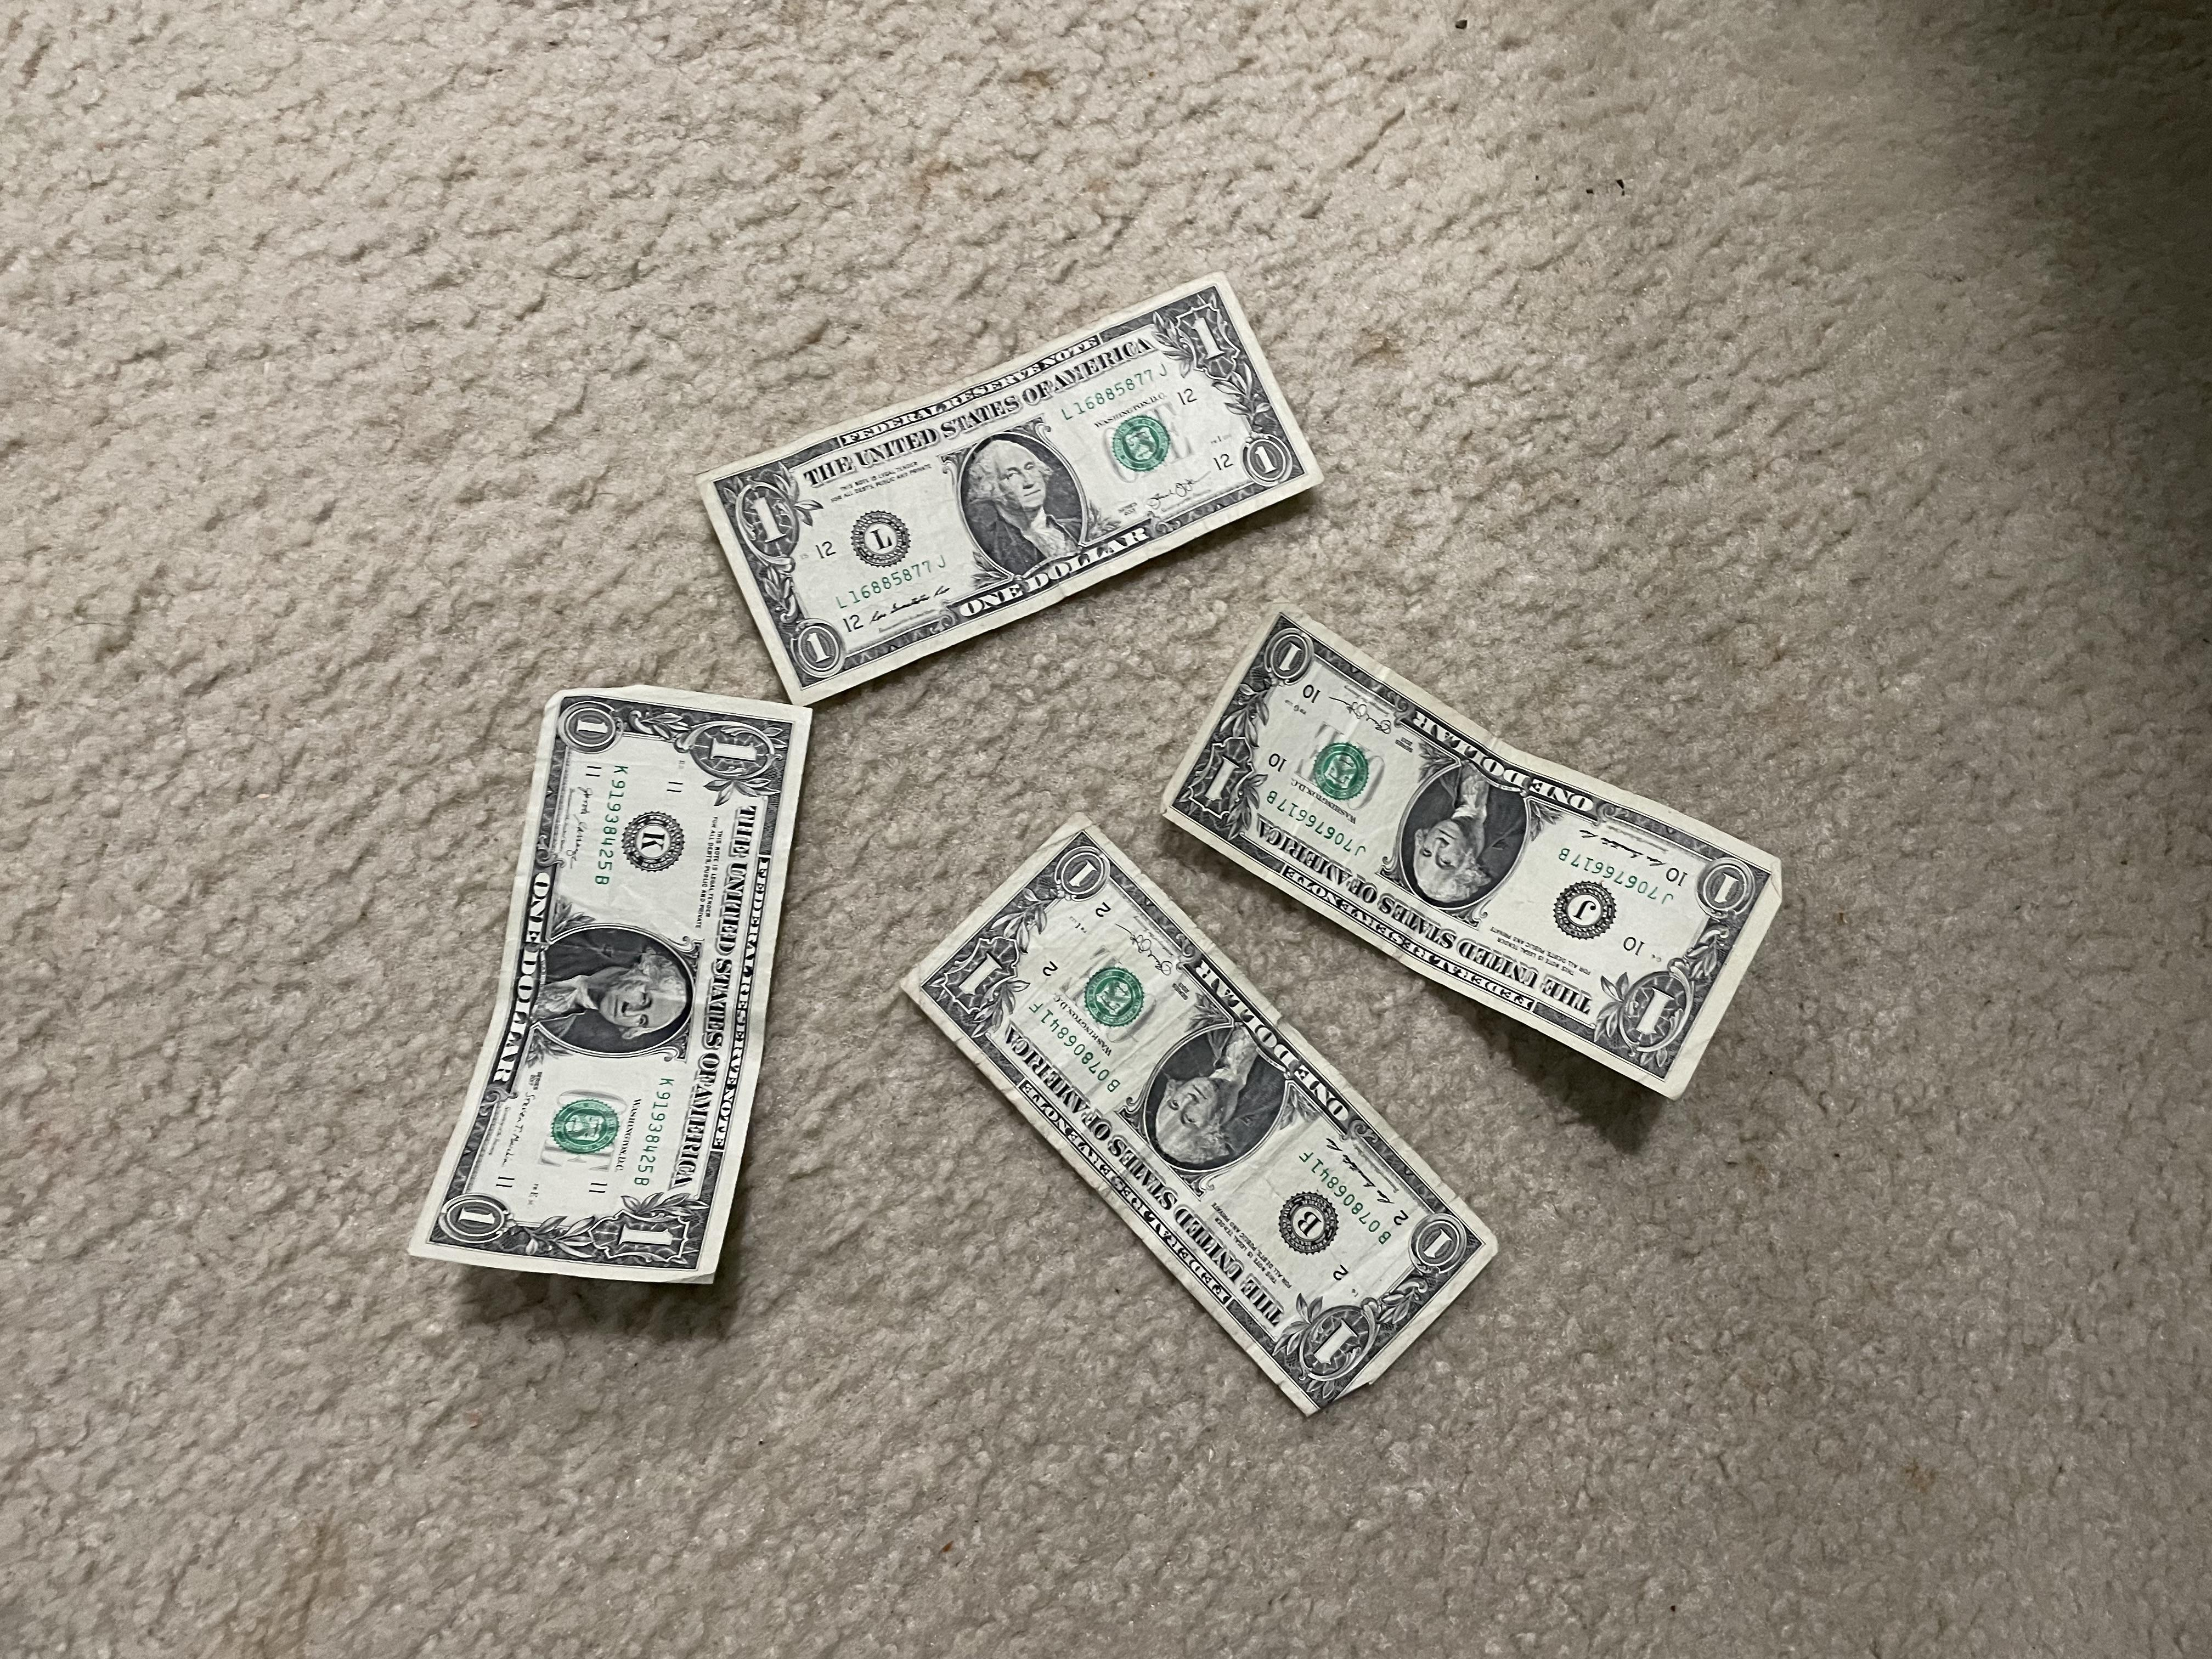OneBill: (897, 810, 1501, 1429), (1163, 603, 1784, 1103), (702, 270, 1329, 702), (397, 683, 810, 1310)
